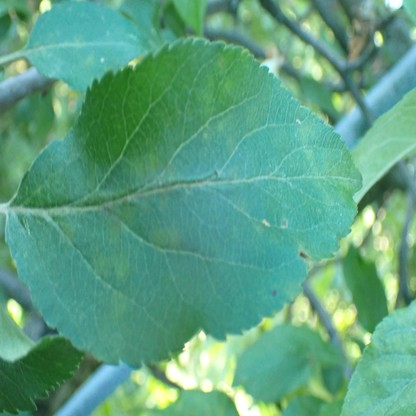scab: (197, 54, 232, 114), (313, 160, 347, 189), (149, 228, 179, 250), (108, 290, 131, 317), (56, 222, 76, 247), (122, 202, 139, 230), (105, 219, 122, 244), (93, 256, 109, 280), (114, 256, 128, 281), (33, 41, 46, 56), (219, 115, 232, 128), (85, 51, 94, 65), (254, 224, 264, 236), (139, 198, 148, 211), (304, 148, 313, 160)
